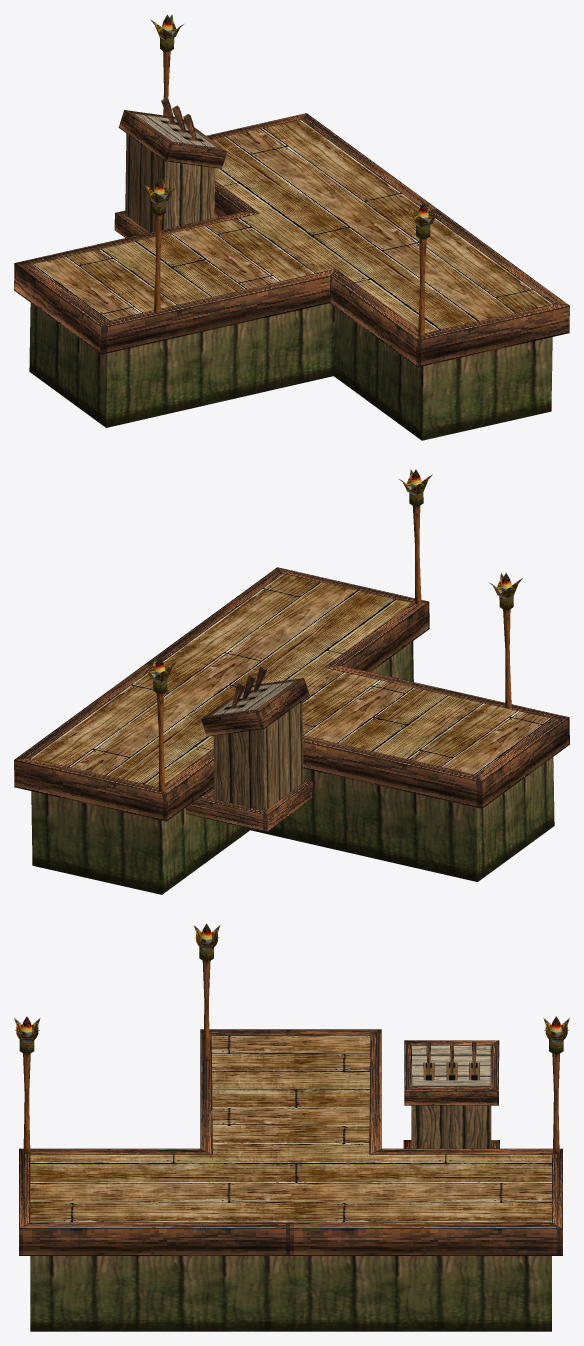
The model's file is INST_WH2_FIRST_BLOCK.obj.
The picture shows the model from 3 angles, top to bottom: view 1: azimuth 30°, elevation 25°; view 2: azimuth 150°, elevation 25°; view 3: azimuth 270°, elevation 25°; orthographic projection. The views are drawn at different scales.
Visible parts, largest first — view 1: First_Block__GX; view 2: First_Block__GX; view 3: First_Block__GX.
Boxes of the visible parts, x1,y1,x2,y2 form: First_Block__GX: [14, 14, 569, 440]; First_Block__GX: [14, 469, 569, 894]; First_Block__GX: [14, 923, 569, 1331].
Size of the model in its own units: 501 by 309 by 613.
